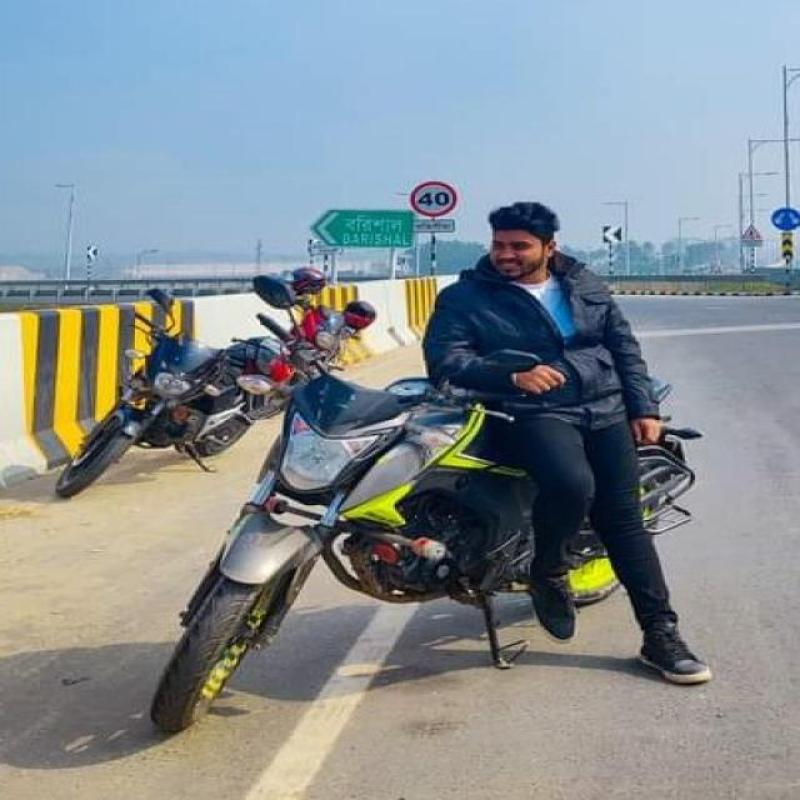nohelmet: (474, 205, 576, 278)
